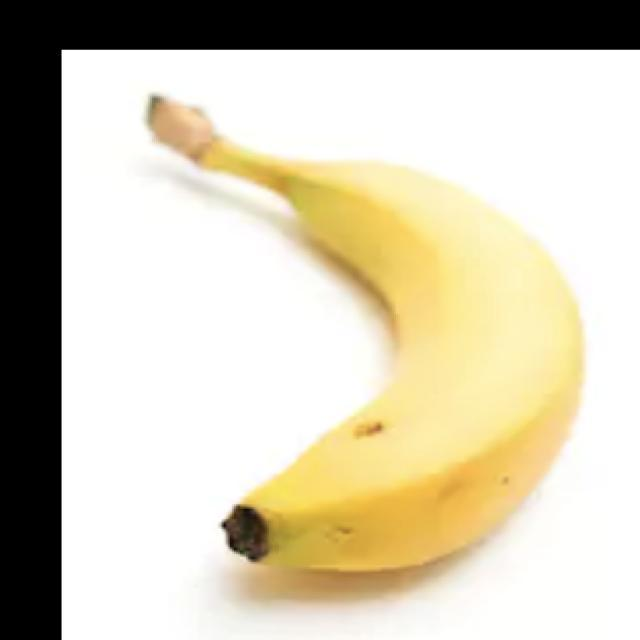Banana: (143, 91, 585, 574)
